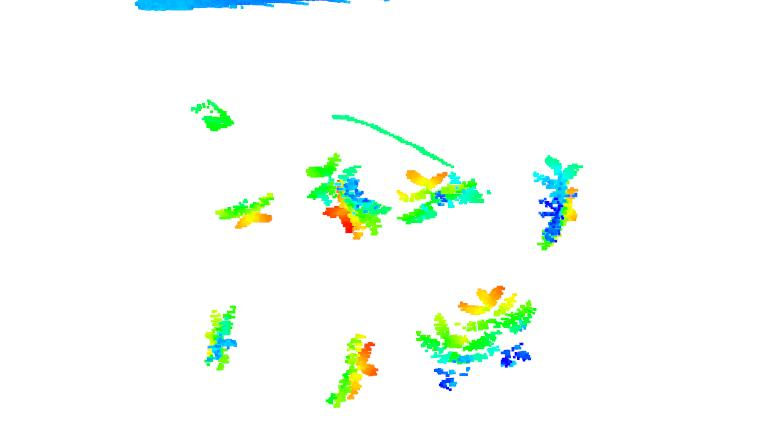chickpea: (305, 150, 392, 237), (457, 284, 543, 364), (392, 166, 486, 224), (531, 153, 584, 250), (324, 330, 377, 414), (411, 313, 468, 391), (200, 304, 244, 372), (215, 189, 278, 232)
